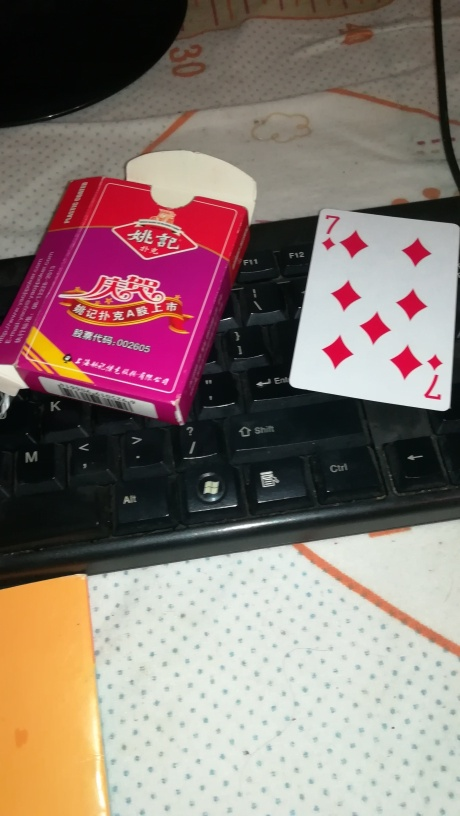fk 7: (289, 207, 460, 411)
